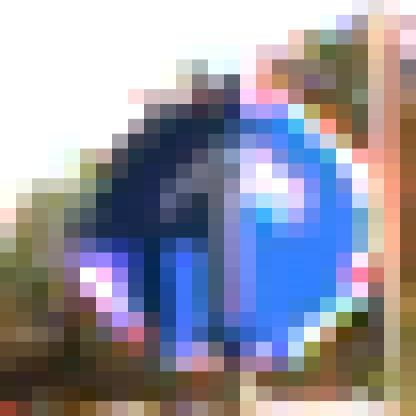AheadOnly: (81, 90, 337, 343)
